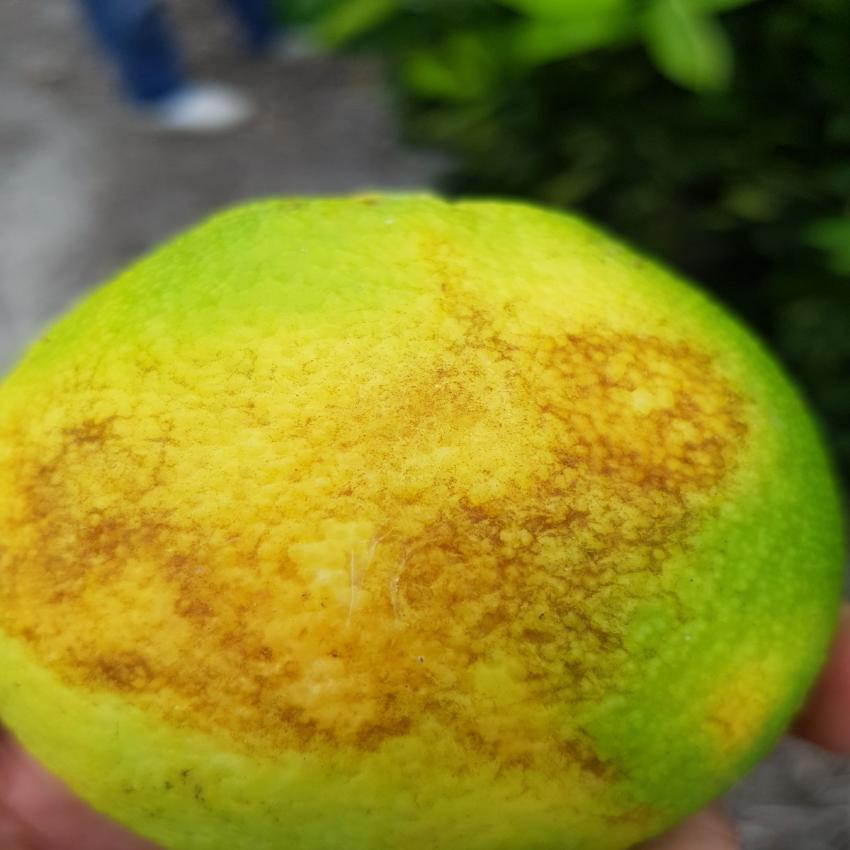Mal estado: (2, 169, 837, 839)
